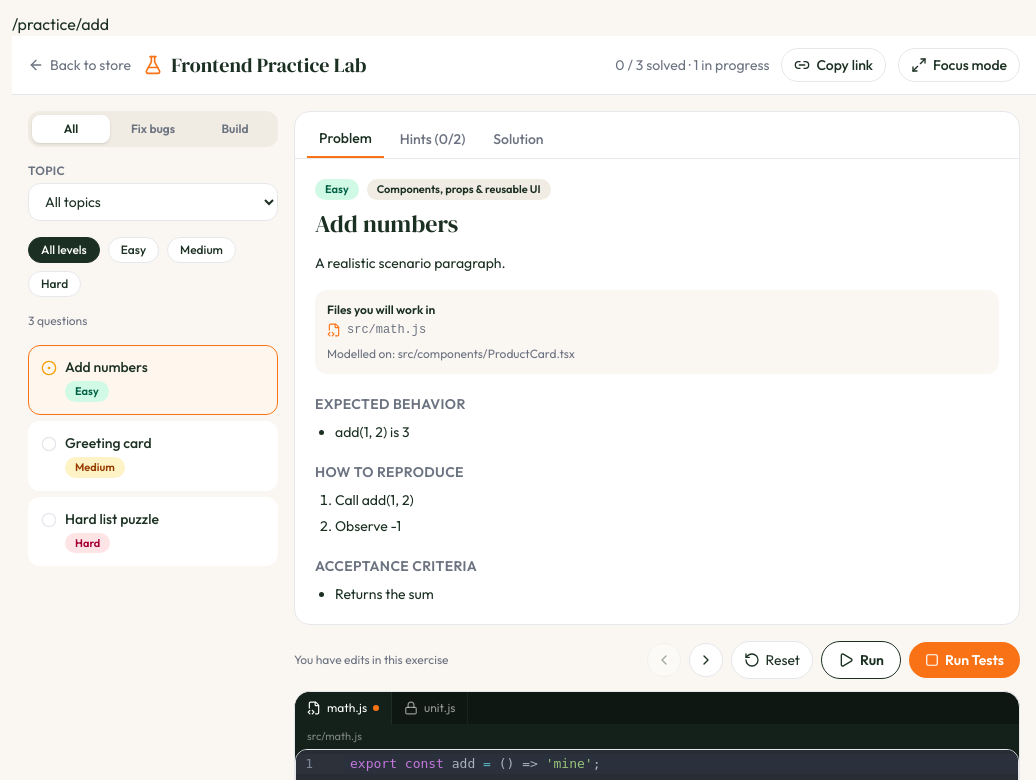
Test case: hints and solution › reveals hints one at a time without touching the editor
Click the tab "Hints (0/2)" at (433, 139), box [388, 120, 477, 158]
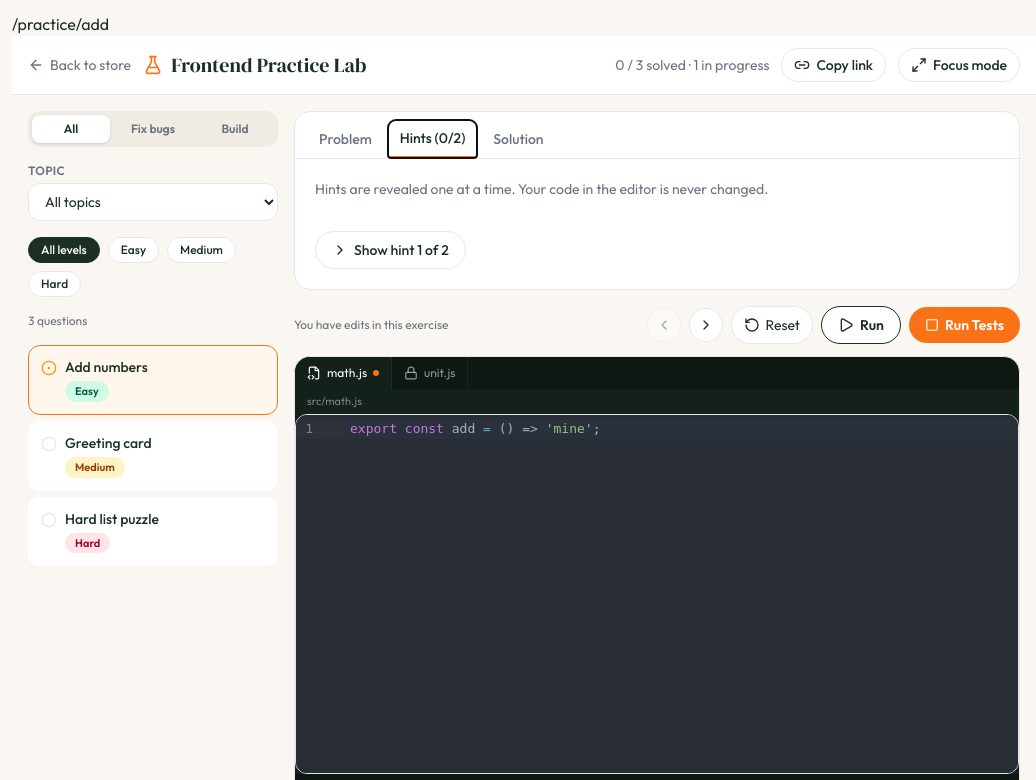
Check: the text "First hint text" is not shown
Click the button "Show hint 1 of 2" at (390, 250), box [315, 231, 466, 269]
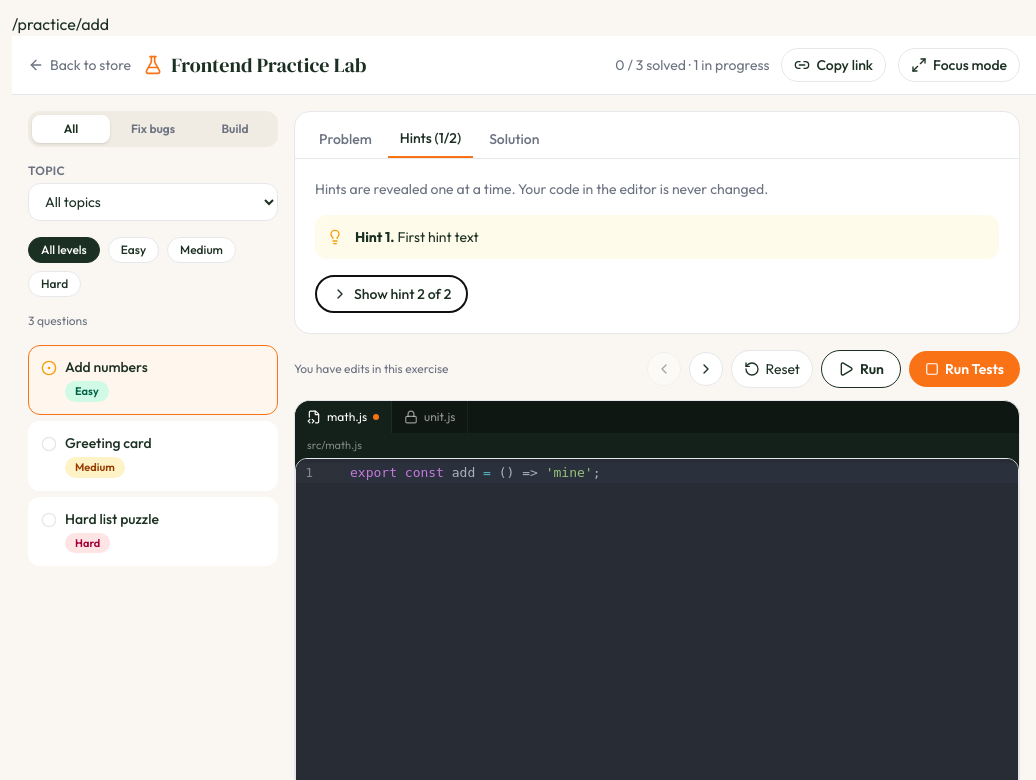
Check: the text "Second hint text" is not shown
Check: the text "Hint 1. First hint text" is shown, box [355, 227, 479, 247]
Click the button "Show hint 2 of 2" at (392, 294), box [315, 275, 468, 313]
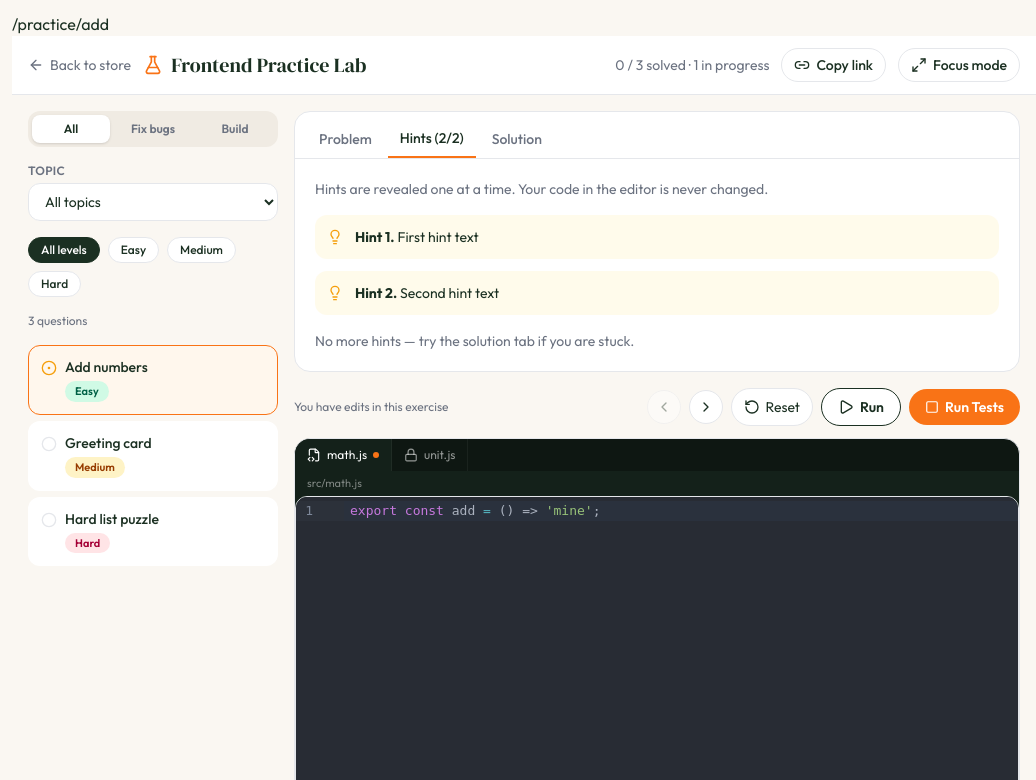
Check: the text box labelled "export const add = () => 'mine';" is shown, box [344, 500, 1018, 521]
Check: the text "Hint 2. Second hint text" is shown, box [355, 283, 499, 303]
Check: the tab "Hints (2/2)" is shown, box [388, 120, 476, 158]
